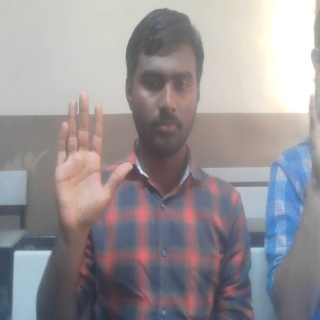Face: (124, 7, 204, 158)
Hello: (52, 91, 132, 234)
